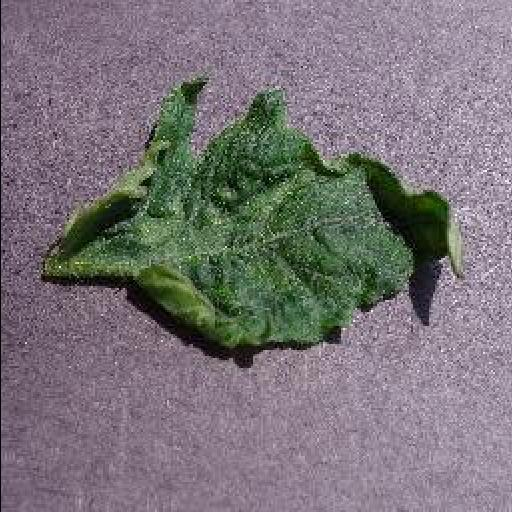Mosaic Virus: (56, 78, 464, 350)
